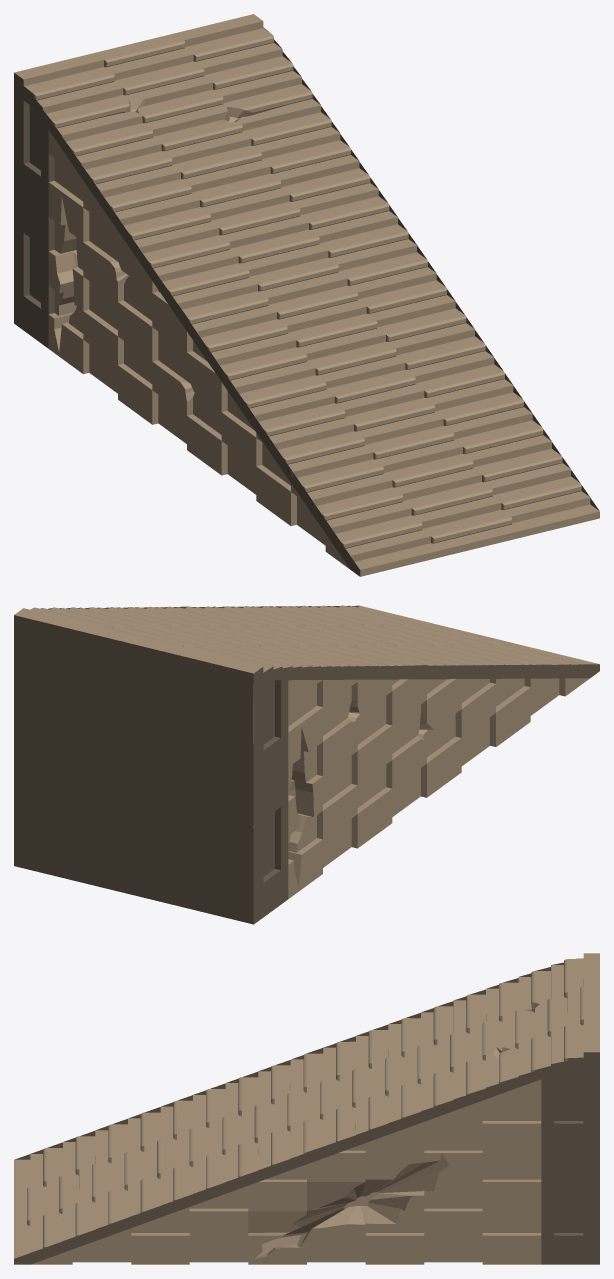
Rendered from stairsBroken_5.4._2.fbx.
3 views of the same model, one above another, from view 1: azimuth 30°, elevation 25°; view 2: azimuth 150°, elevation 25°; view 3: azimuth 270°, elevation 25° (orthographic). The views are drawn at different scales.
Parts seen in each view (by area): view 1: stairsBroken; view 2: stairsBroken; view 3: stairsBroken.
Part boxes in pixels (x1=…): stairsBroken: x1=14, y1=14, x2=599, y2=576; stairsBroken: x1=14, y1=605, x2=599, y2=924; stairsBroken: x1=14, y1=953, x2=599, y2=1264.
Bounding box in the file's own units: 400 × 400 × 1000.
